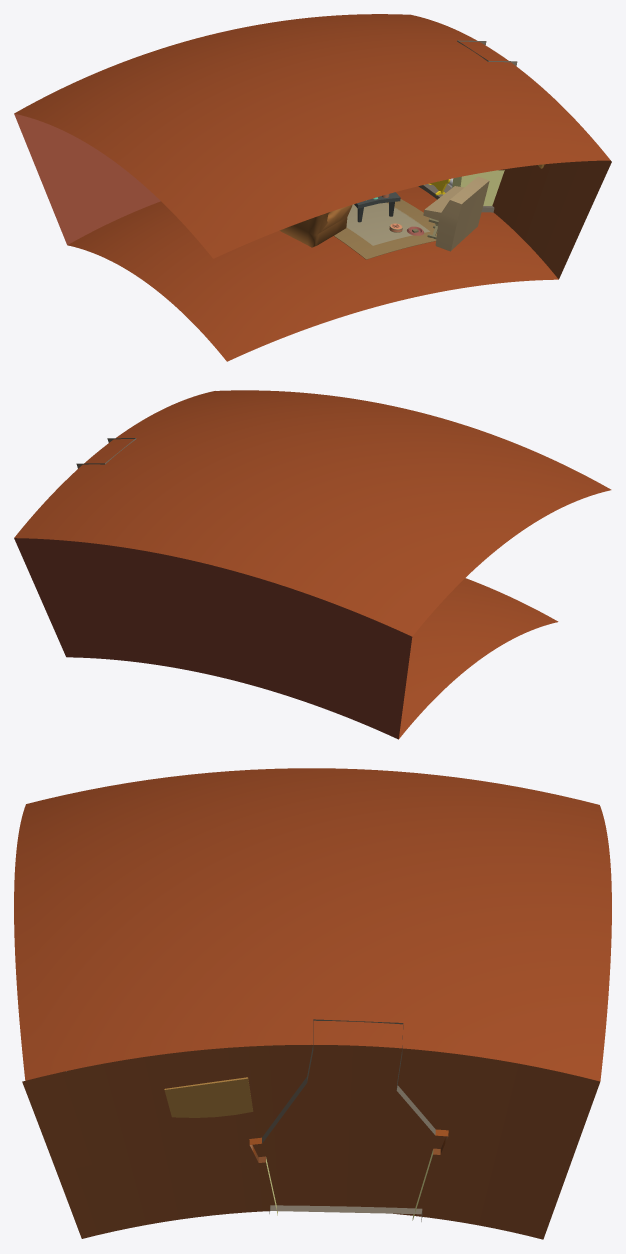
3 renders of one model, top to bottom at view 1: azimuth 30°, elevation 25°; view 2: azimuth 150°, elevation 25°; view 3: azimuth 270°, elevation 25°, orthographic. The views are drawn at different scales.
Visible parts, largest first — view 1: living room, carpet, piano, seat, chimney, table; view 2: living room; view 3: living room, wall frame 1, chimney.
Part boxes in pixels (left/top/right/bottom): living room: left=14, top=14, right=611, bottom=361; carpet: left=334, top=199, right=437, bottom=259; piano: left=423, top=176, right=489, bottom=251; seat: left=279, top=205, right=352, bottom=247; chimney: left=418, top=40, right=517, bottom=212; table: left=354, top=192, right=400, bottom=222; living room: left=14, top=390, right=611, bottom=739; living room: left=14, top=768, right=611, bottom=1239; wall frame 1: left=164, top=1077, right=253, bottom=1117; chimney: left=249, top=1019, right=448, bottom=1221.
Bounding box in the file's own units: 110 × 46.32 × 97.62.
23 materials, 22 textured.
